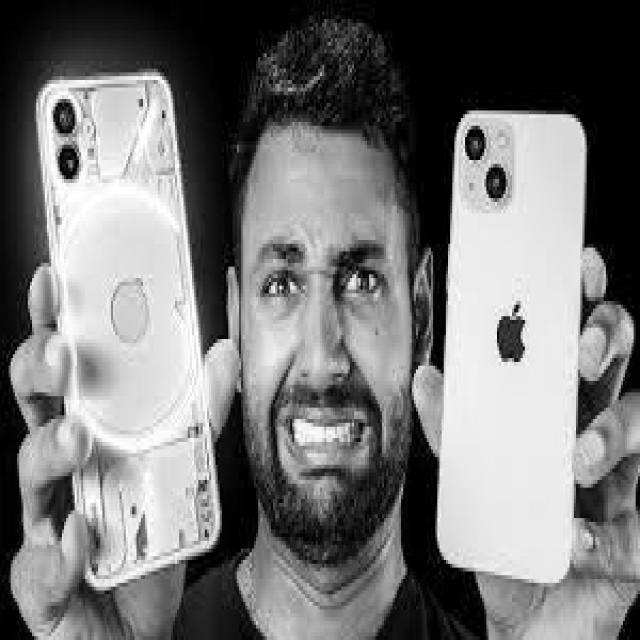No gun_phone: (37, 70, 221, 585), (437, 114, 587, 585)
